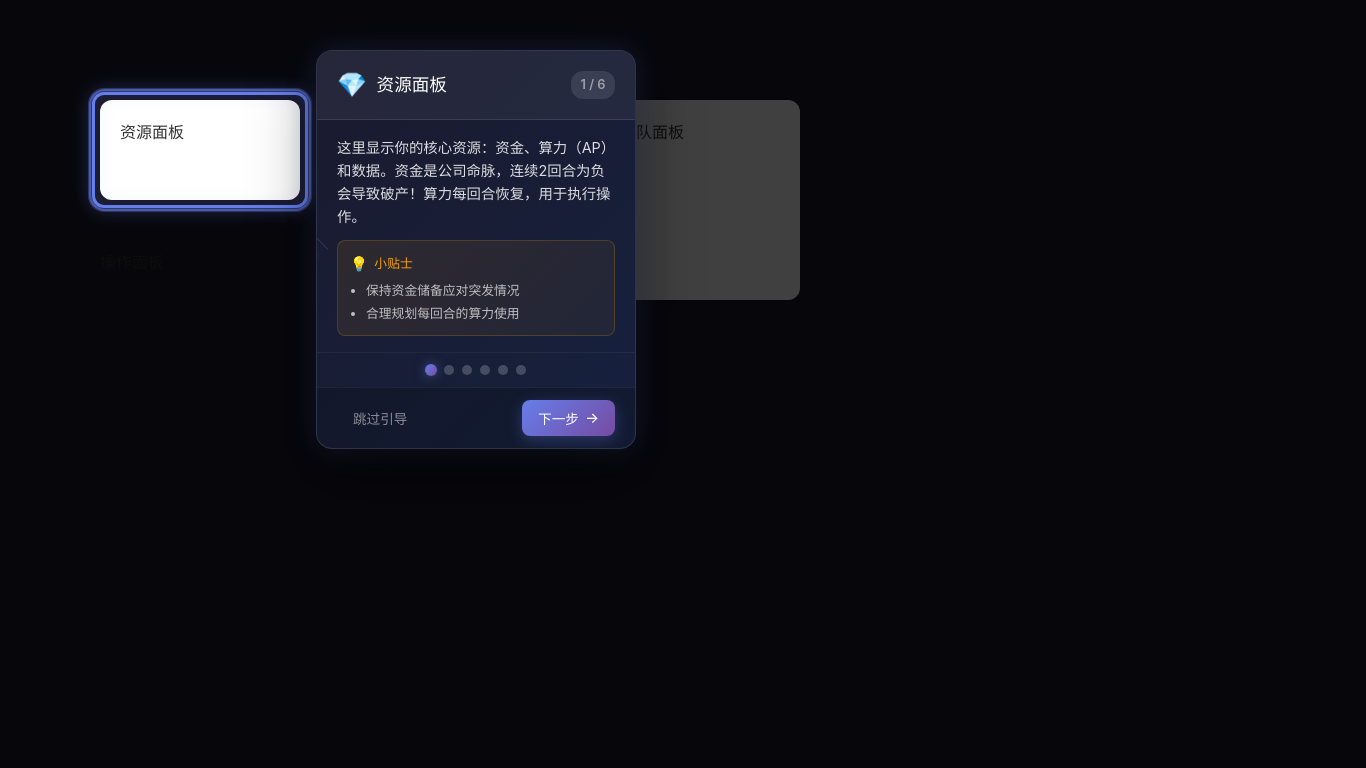
it: 引导完成流程集成测试 › 完成所有引导步骤后应该关闭引导
Click the button "下一步 →" at (569, 418), box [522, 400, 615, 436]
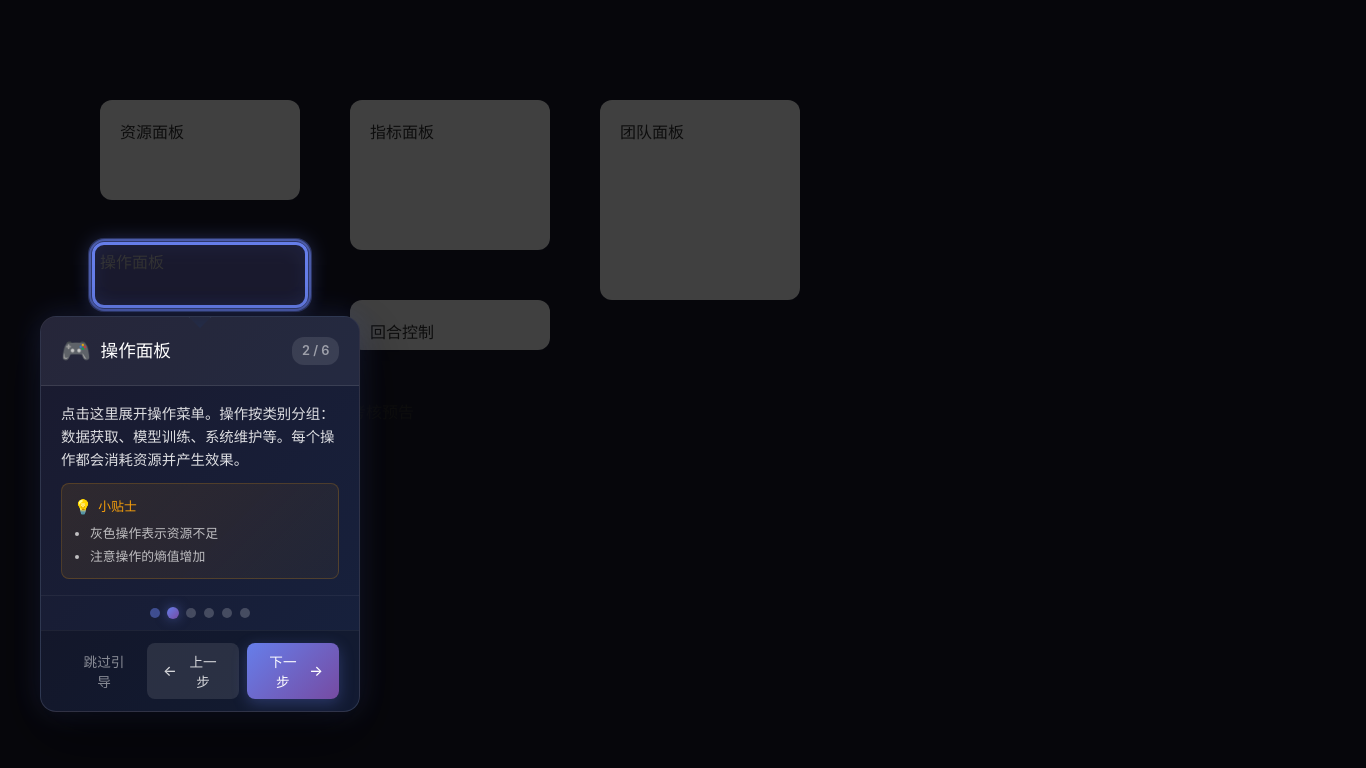
Click the button "下一步 →" at (293, 671), box [247, 643, 339, 699]
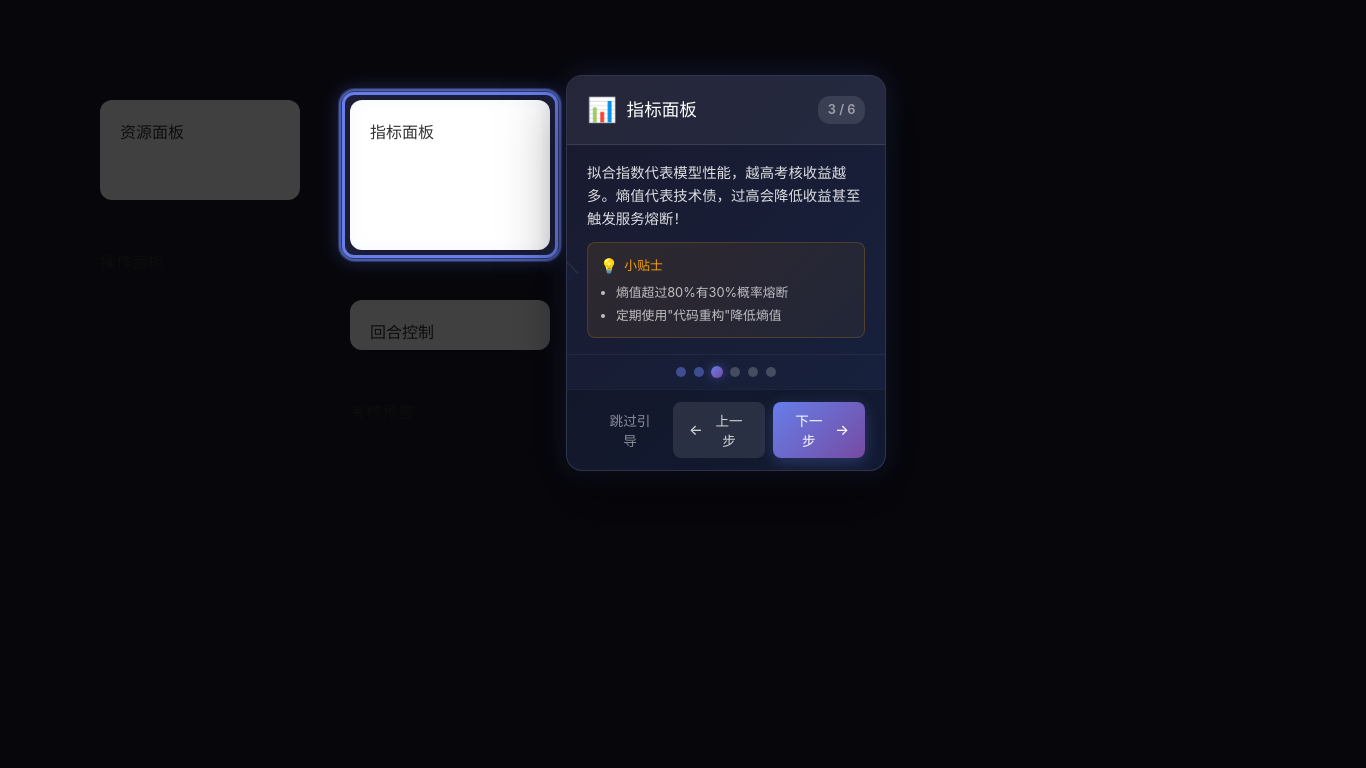
Click the button "下一步 →" at (819, 430), box [773, 402, 865, 458]
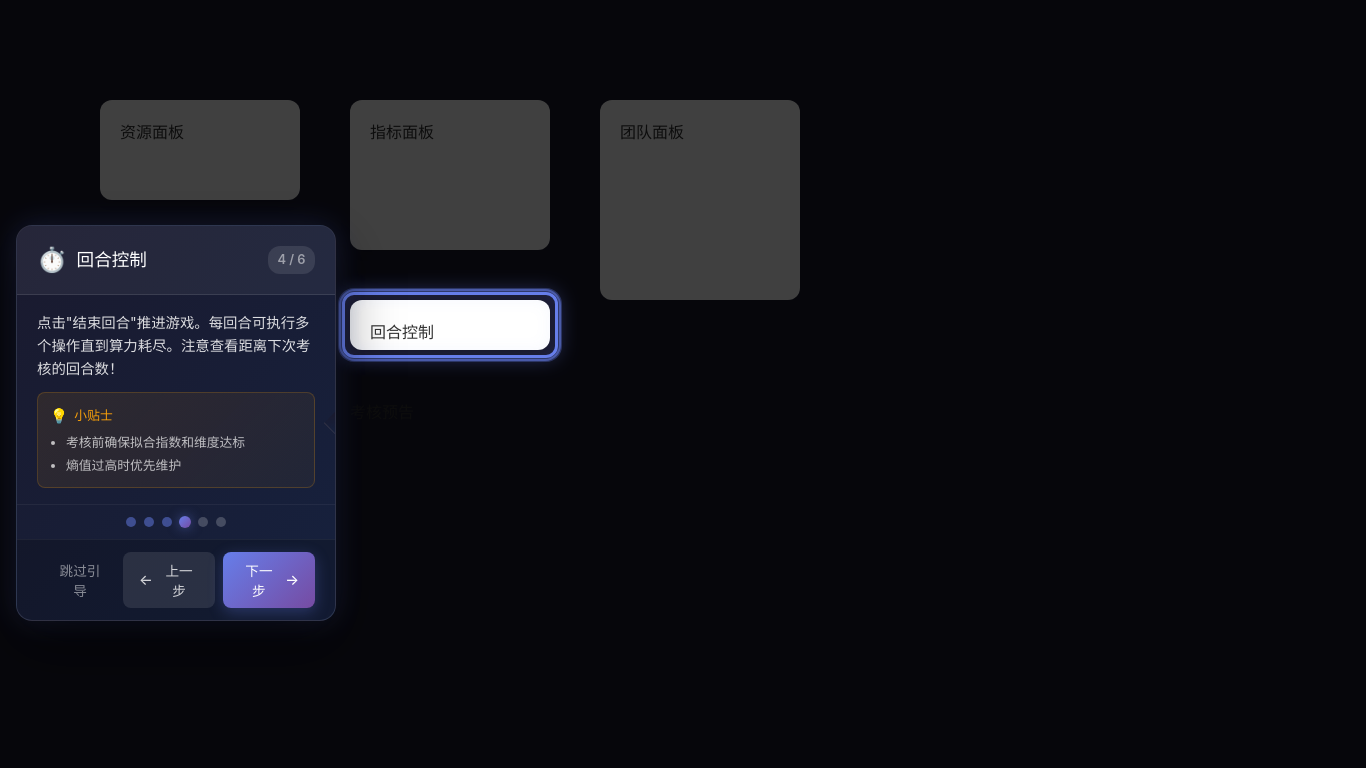
Click the button "下一步 →" at (269, 580), box [223, 552, 315, 608]
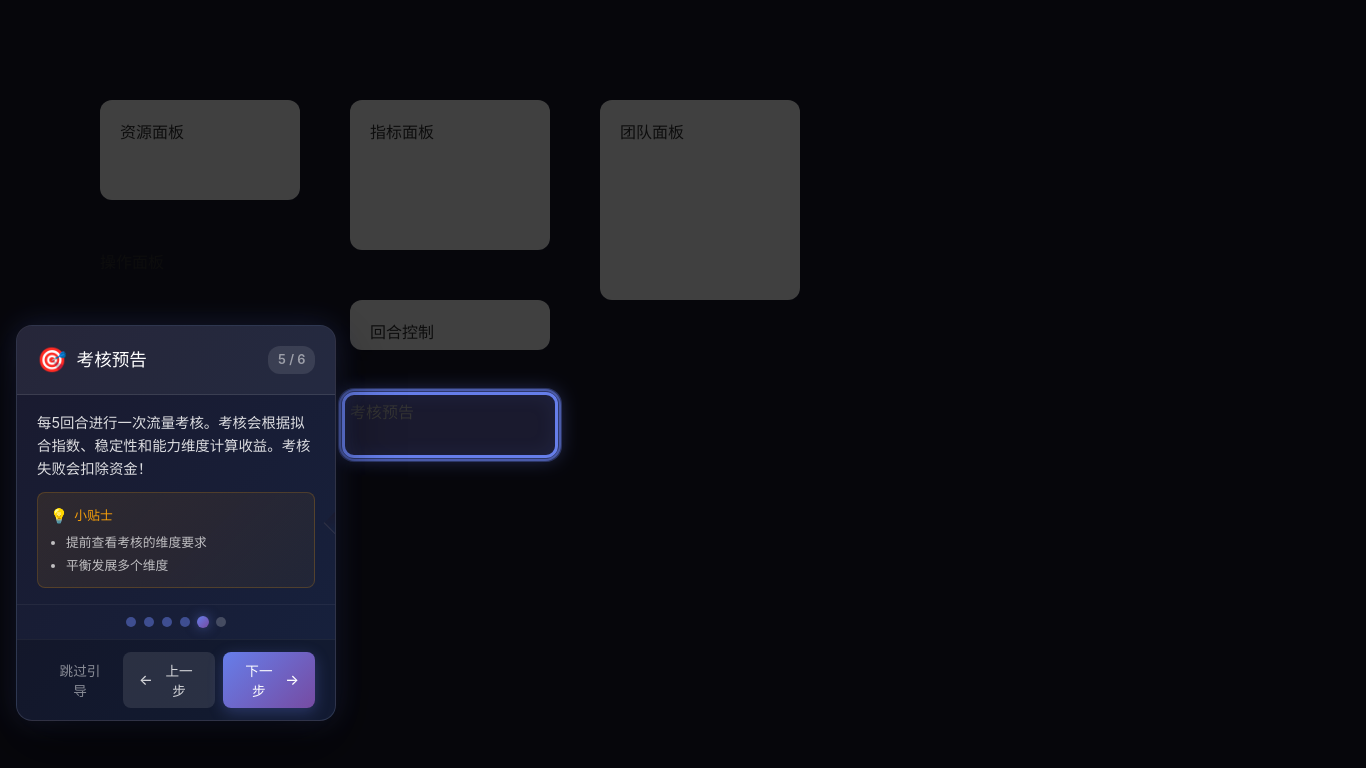
Click the button "下一步 →" at (269, 680), box [223, 652, 315, 708]
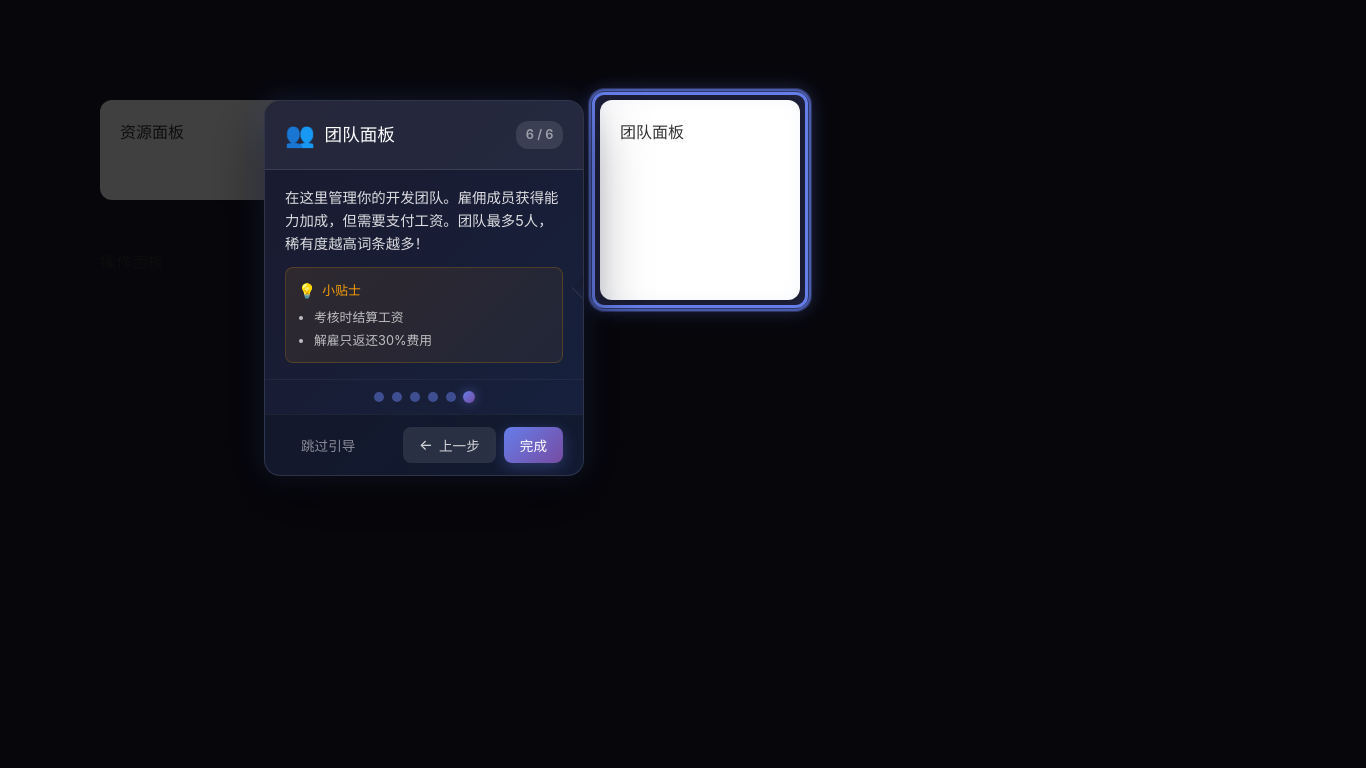
Click the button "完成" at (533, 445), box [504, 427, 563, 463]
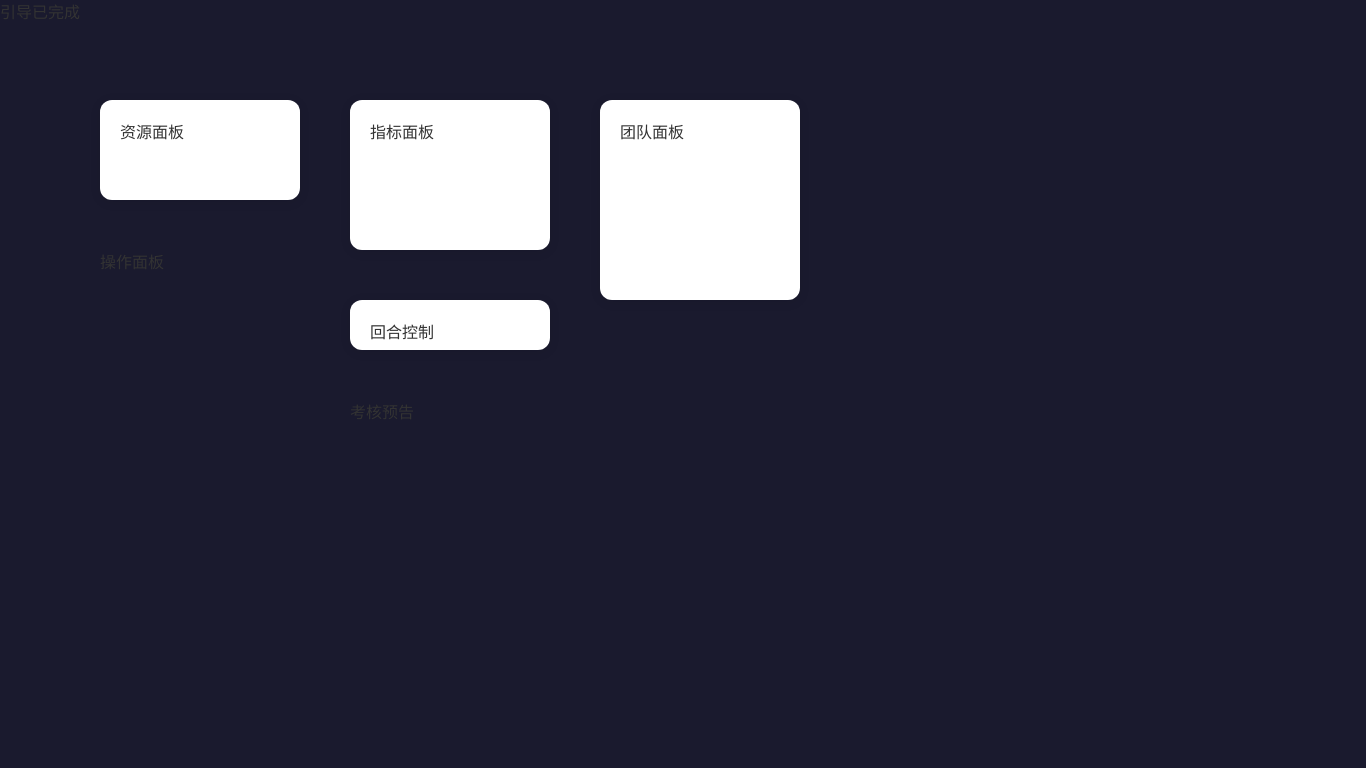
Expected: the text "引导已完成" is shown, [0, 2, 80, 22]
